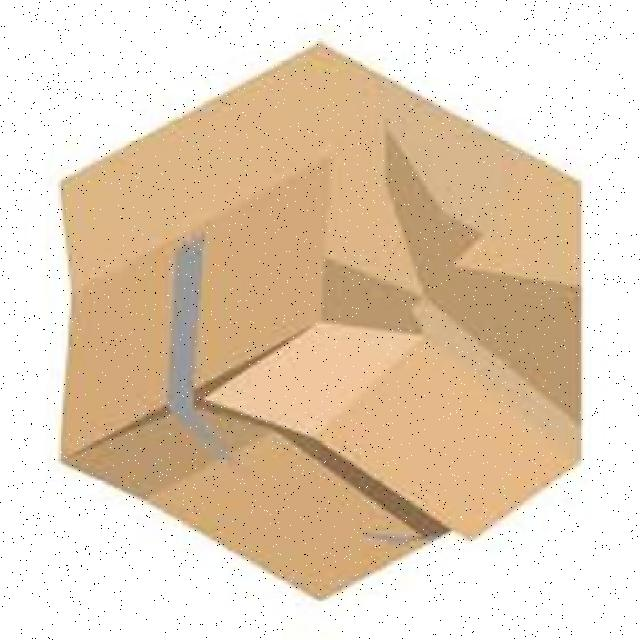defect: (49, 40, 591, 602)
